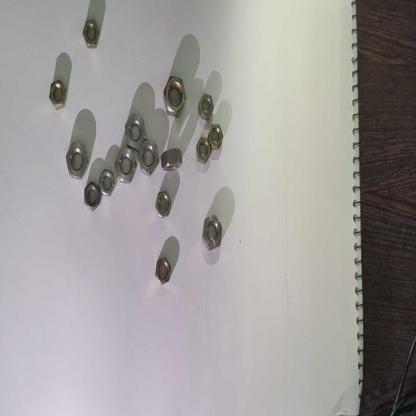NUTS: (63, 141, 94, 184), (162, 74, 189, 122), (123, 110, 147, 151), (113, 147, 138, 185), (202, 213, 223, 256), (137, 140, 161, 176), (80, 177, 101, 215), (158, 146, 188, 172), (47, 78, 67, 114), (81, 17, 101, 52), (197, 92, 217, 126), (98, 164, 115, 204), (154, 255, 172, 288), (207, 122, 226, 152), (154, 190, 173, 219), (195, 134, 212, 164)
